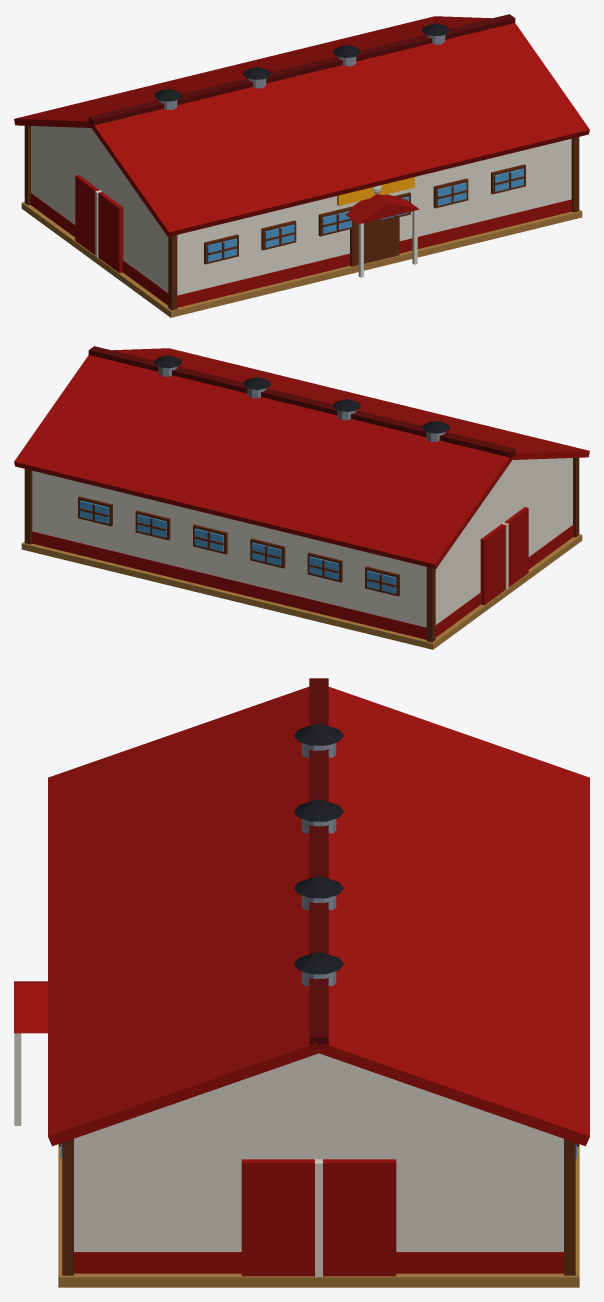
File: PoultryHall.obj
3 renders of one model, top to bottom at view 1: azimuth 30°, elevation 25°; view 2: azimuth 150°, elevation 25°; view 3: azimuth 270°, elevation 25°, orthographic. The views are drawn at different scales.
Parts seen in each view (by area): view 1: PoultryHall; view 2: PoultryHall; view 3: PoultryHall.
Boxes of the visible parts, bbox=[...] form: PoultryHall: bbox=[14, 14, 589, 317]; PoultryHall: bbox=[14, 346, 589, 649]; PoultryHall: bbox=[14, 678, 589, 1287].
Size of the model in its own units: 12.32 by 4.34 by 8.36.
